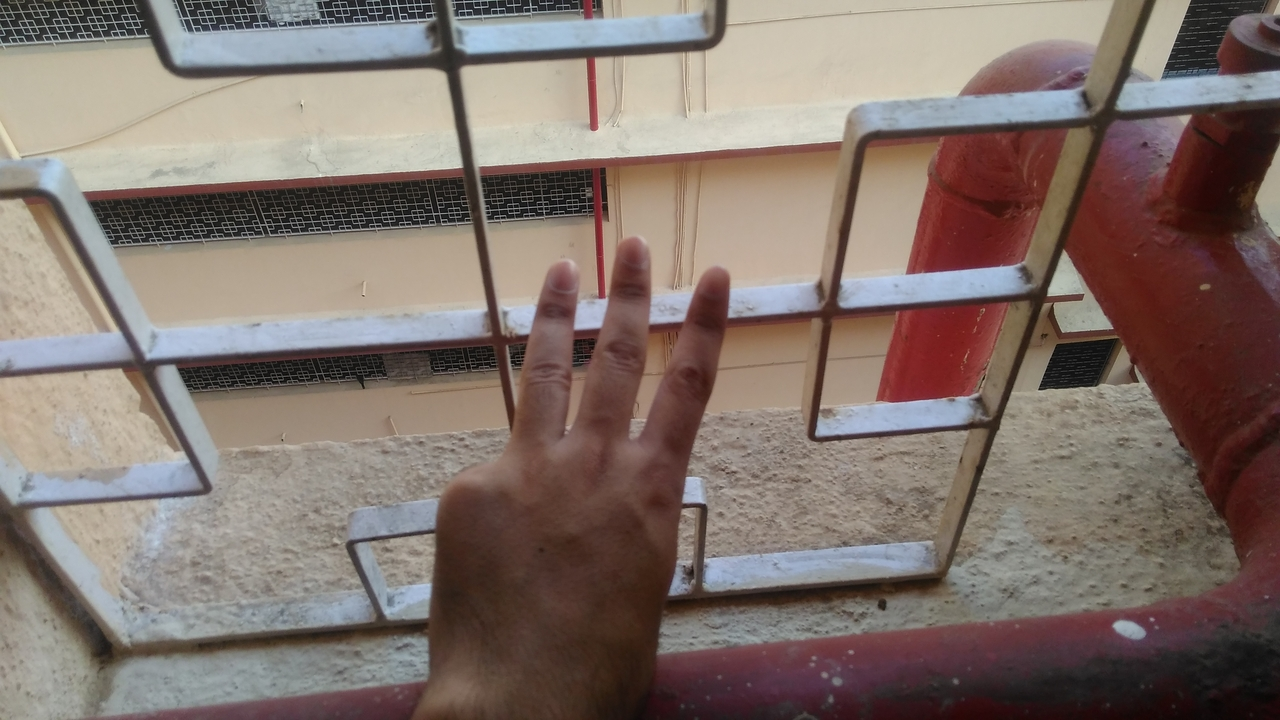fingertip: (606, 228, 660, 276), (684, 260, 738, 306), (536, 252, 586, 294)
